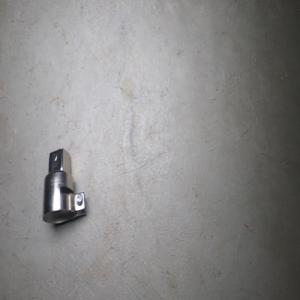MetalPart: (41, 147, 86, 224)
